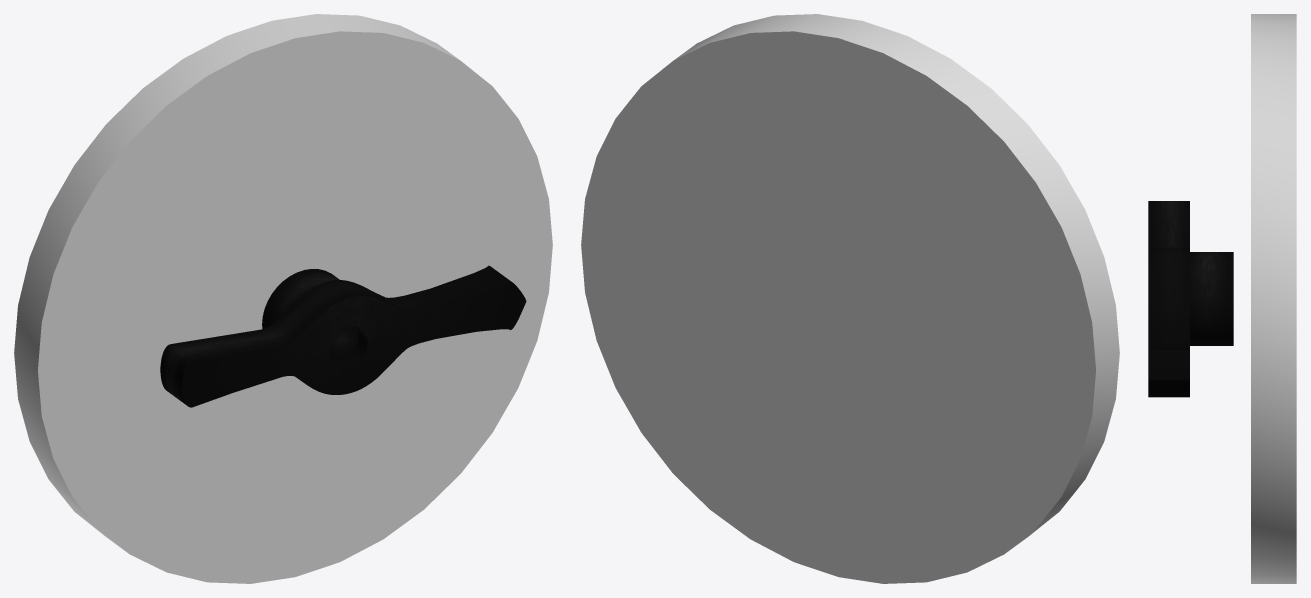
File: Power_checker.gltf
3 renders of one model, left to right at view 1: azimuth 30°, elevation 25°; view 2: azimuth 150°, elevation 25°; view 3: azimuth 270°, elevation 25°, orthographic. The views are drawn at different scales.
Visible parts, largest first — view 1: Power_checker; view 2: Power_checker; view 3: Power_checker.
Boxes of the visible parts, box(x1,y1,x2,y2) form: Power_checker: box(14, 14, 552, 583); Power_checker: box(581, 14, 1119, 583); Power_checker: box(1148, 14, 1296, 583).
Size of the model in its own units: 0.0819 by 0.0819 by 0.0213.
2 materials, 1 textured.
